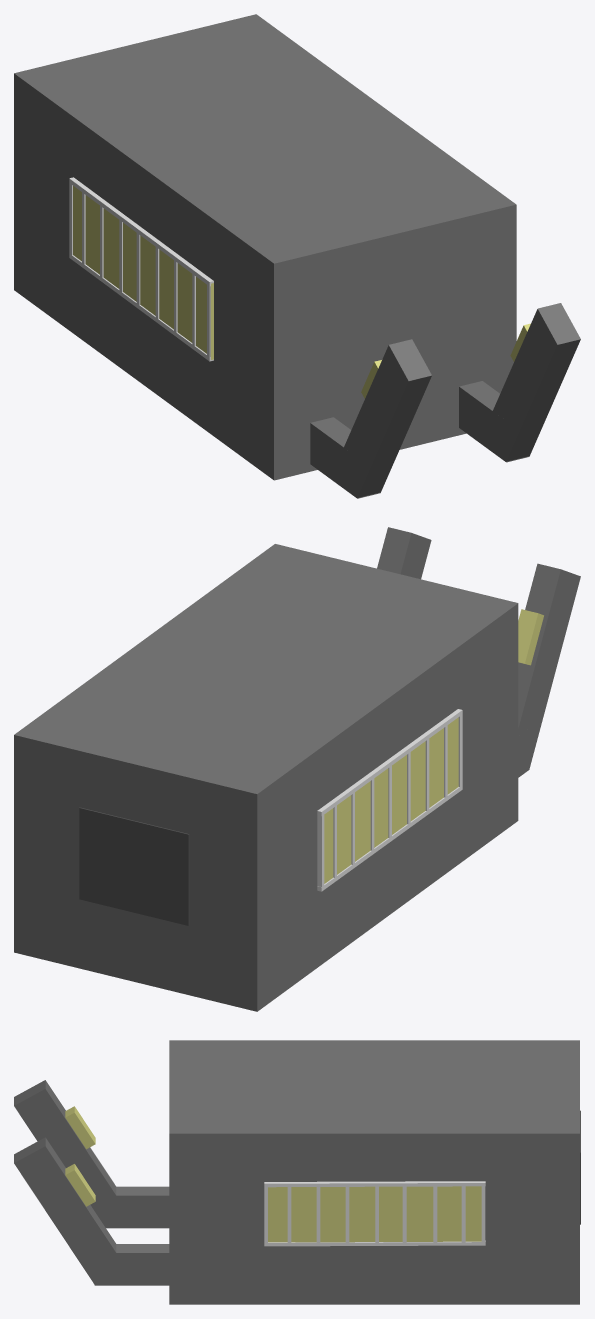
File: Lazer_Cutter.fbx
The picture shows the model from 3 angles, top to bottom: view 1: azimuth 30°, elevation 25°; view 2: azimuth 150°, elevation 25°; view 3: azimuth 270°, elevation 25°; orthographic projection. The views are drawn at different scales.
Visible parts, largest first — view 1: group4_pasted__pasted__pCube3; view 2: group4_pasted__pasted__pCube3; view 3: group4_pasted__pasted__pCube3.
Boxes of the visible parts, left/top/right/bottom form: group4_pasted__pasted__pCube3: left=14, top=14, right=580, bottom=498; group4_pasted__pasted__pCube3: left=14, top=527, right=580, bottom=1011; group4_pasted__pasted__pCube3: left=14, top=1040, right=580, bottom=1304.
Bounding box in the file's own units: 1.04 × 0.8547 × 2.57.
